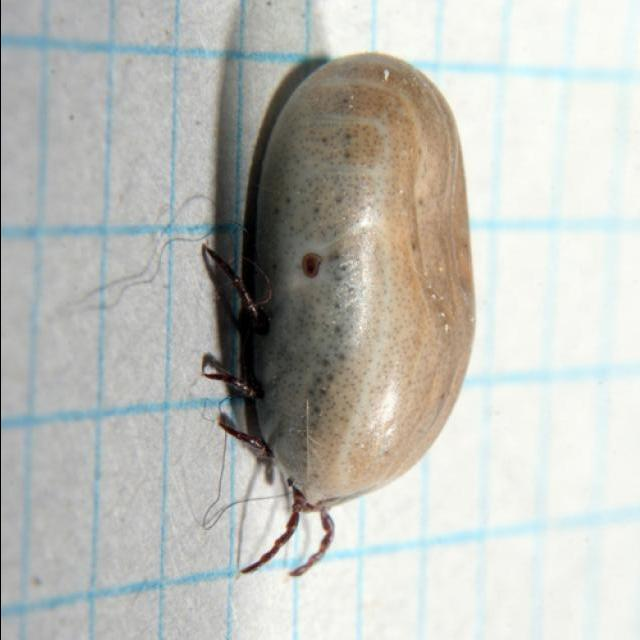Dermacentor Reticulatus-F-Fed: (200, 50, 475, 579)
